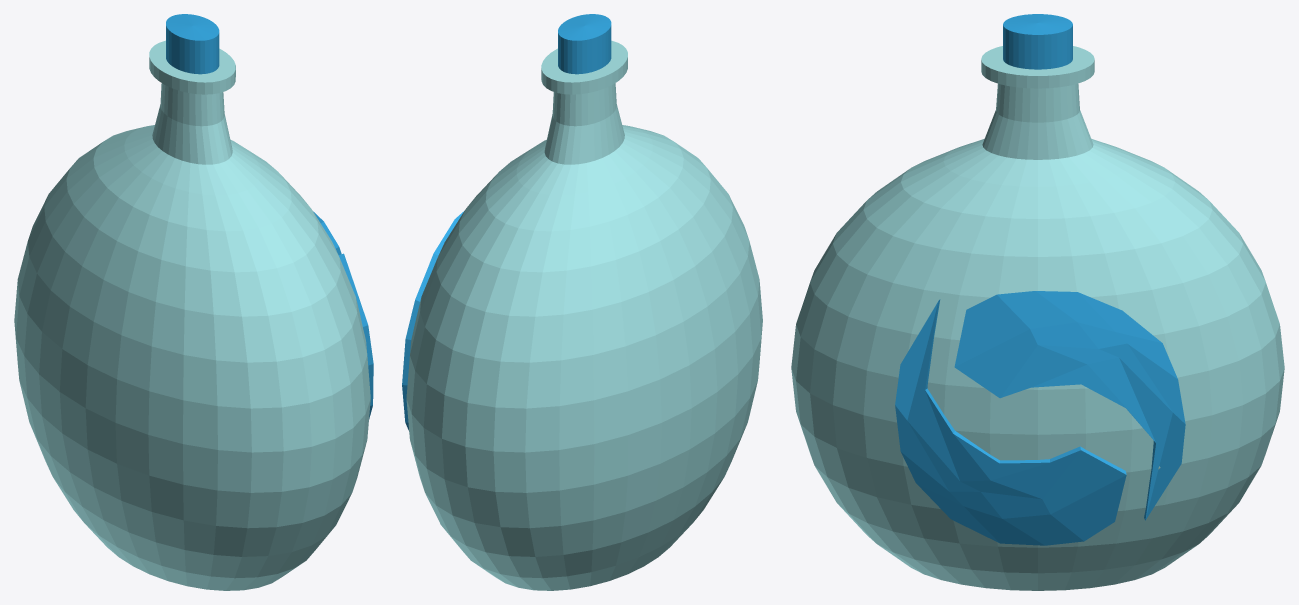
Rendered from balancePotion.fbx.
3 renders of one model, left to right at view 1: azimuth 30°, elevation 25°; view 2: azimuth 150°, elevation 25°; view 3: azimuth 270°, elevation 25°, orthographic. The views are drawn at different scales.
Parts seen in each view (by area): view 1: balance; view 2: balance; view 3: balance.
Boxes of the visible parts, x1,y1,x2,y2 form: balance: (14,14,373,590); balance: (402,14,762,590); balance: (791,14,1284,590).
Size of the model in its own units: 157 by 289 by 242.
